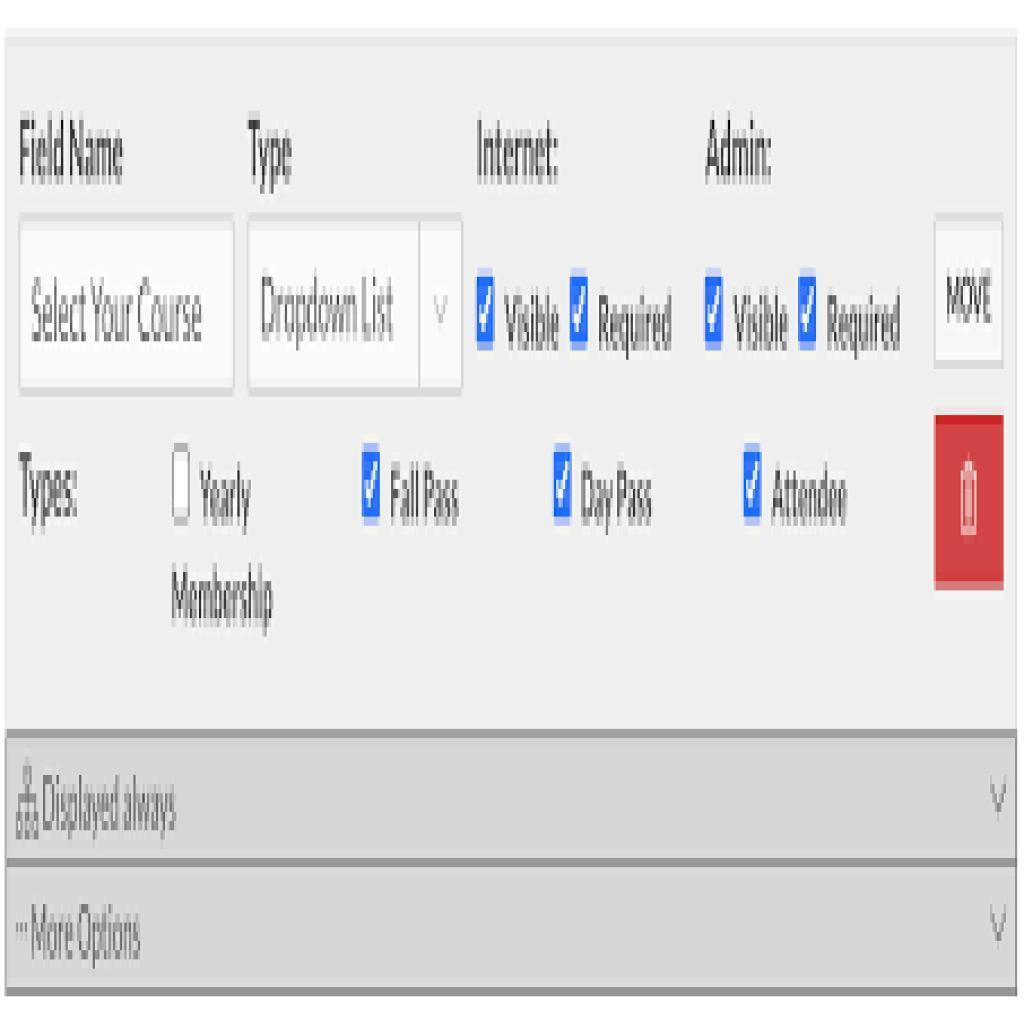button: (935, 212, 1006, 361)
checkbox: (472, 262, 499, 357), (169, 442, 197, 530), (703, 269, 729, 360), (358, 443, 384, 530), (568, 274, 594, 353), (550, 442, 575, 522), (797, 272, 818, 357)
dropdown: (4, 865, 1021, 999), (6, 732, 1019, 863), (250, 217, 464, 390)
icon: (934, 413, 1003, 592)
input: (19, 212, 231, 393)
